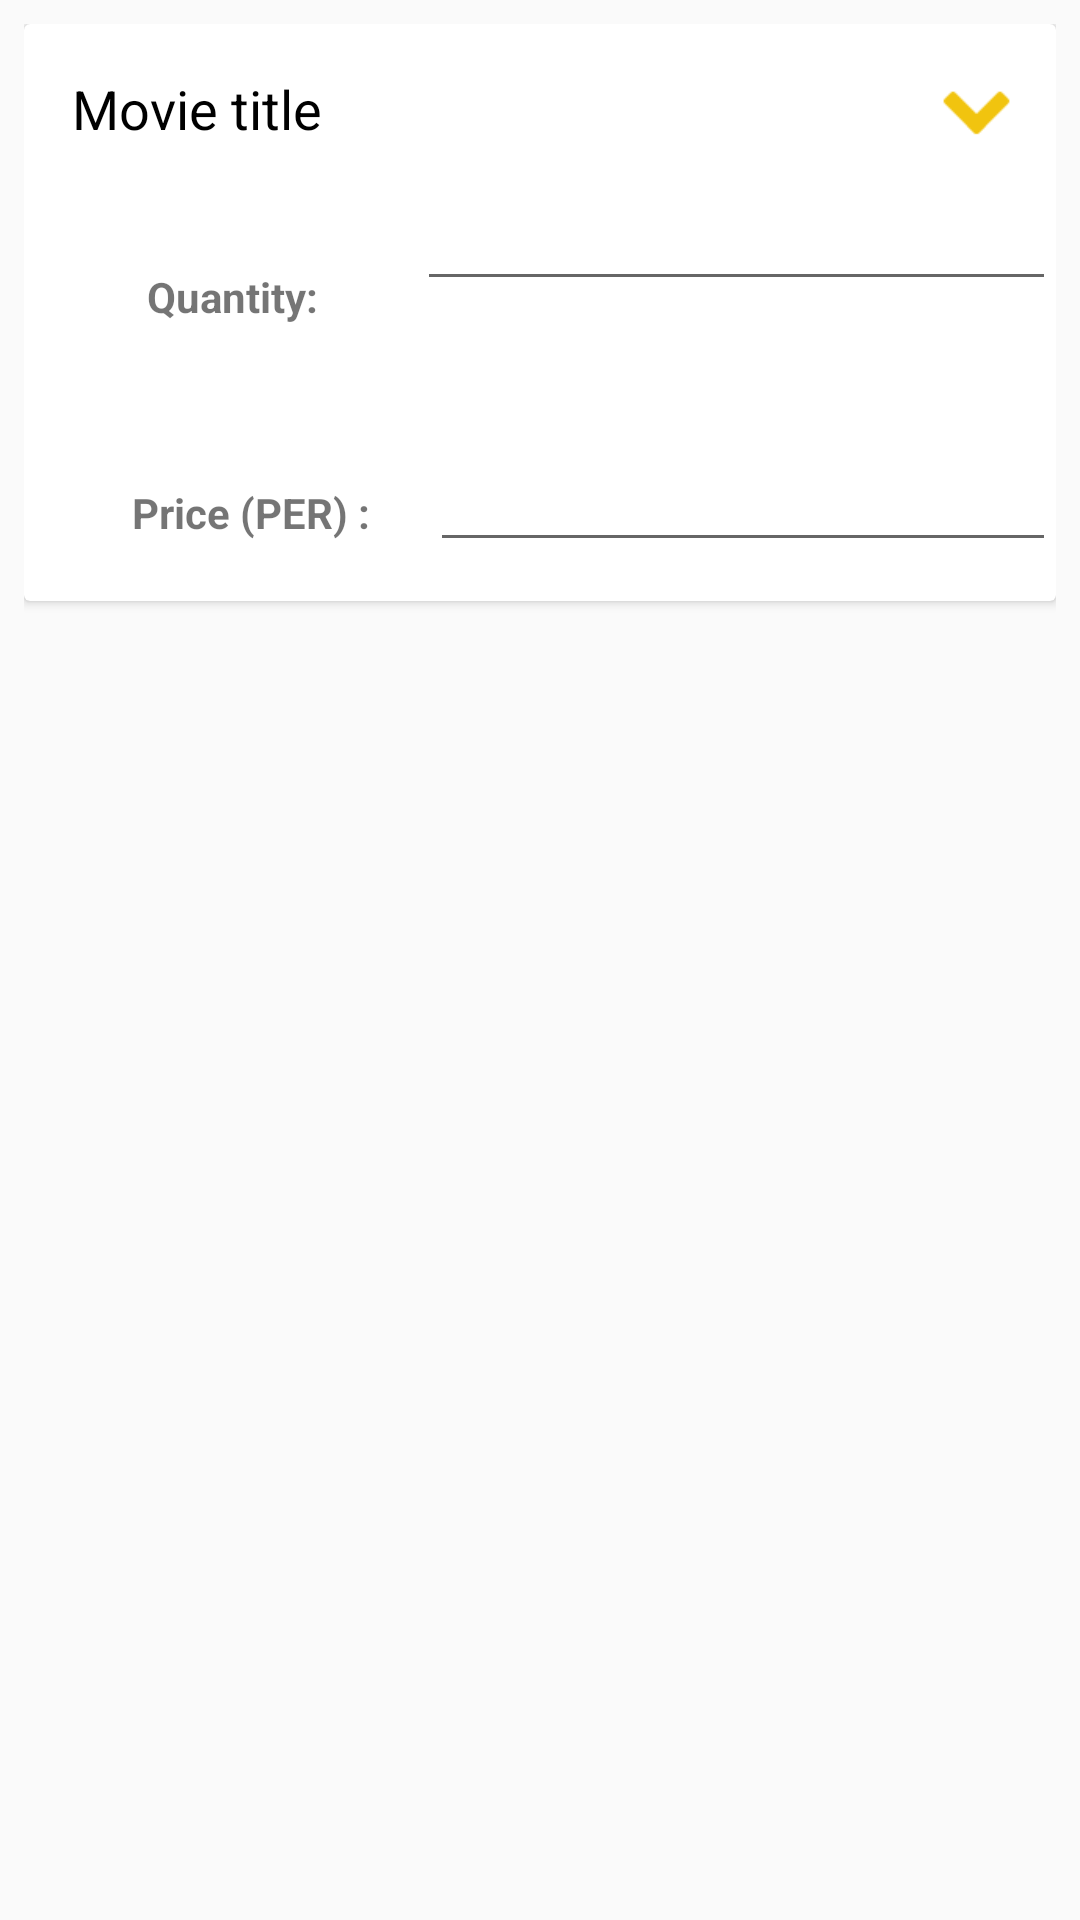

Locate icon controls on the screen. Image size 1080 x 1920, boxes as (x1, y1, x2, y2).
arrowbtn: (943, 91, 1010, 135)
